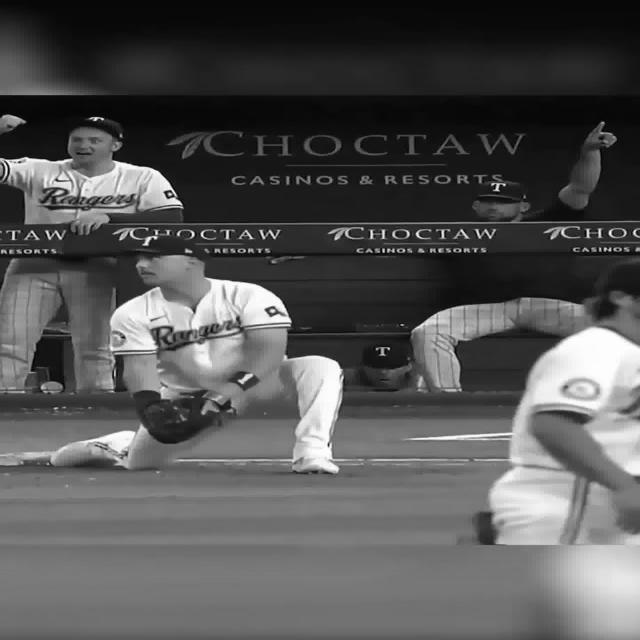base: (3, 452, 138, 467)
baseball_glove: (133, 390, 234, 444)
shoe: (48, 433, 134, 465), (91, 440, 129, 468), (290, 456, 340, 474)
